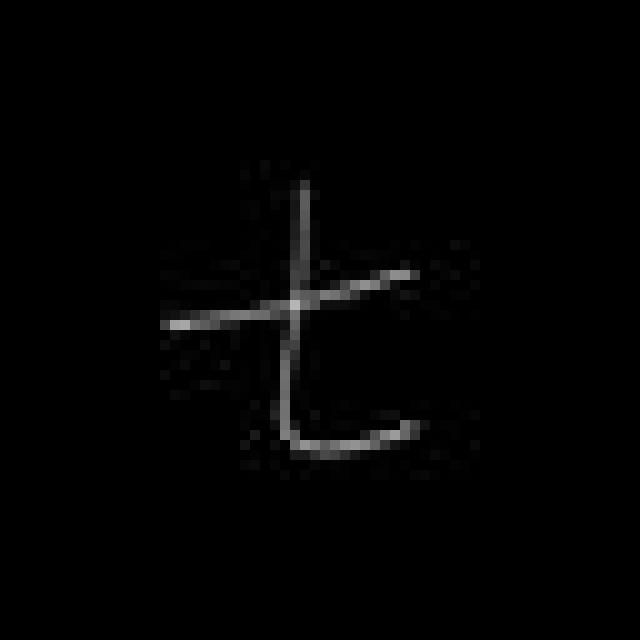7 -seven-: (157, 180, 429, 467)
